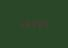five: (36, 19, 41, 27), (42, 19, 47, 27)
four: (18, 20, 23, 28)
nine: (24, 20, 29, 28)
two: (30, 20, 35, 27)
